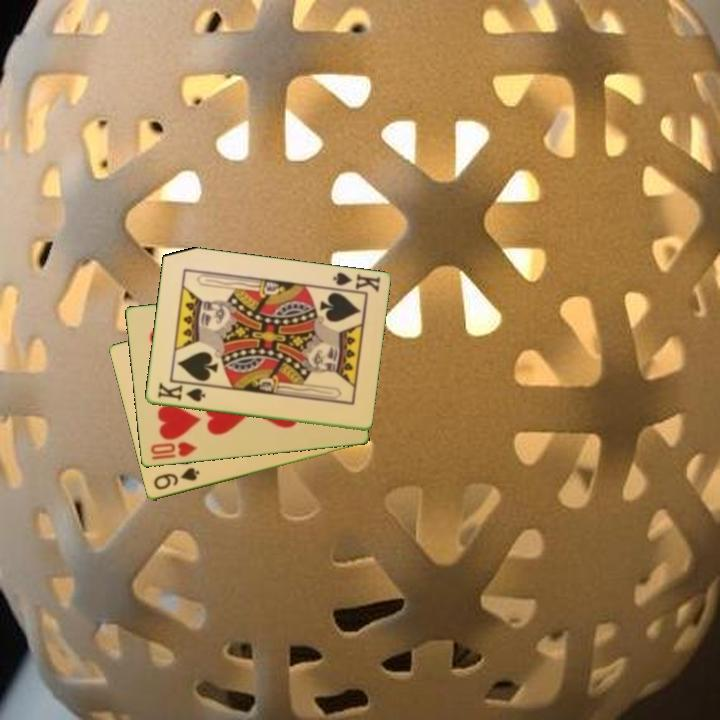10h: (147, 438, 200, 463)
9s: (150, 464, 202, 493)
Ks: (326, 269, 383, 296), (154, 379, 208, 405)
